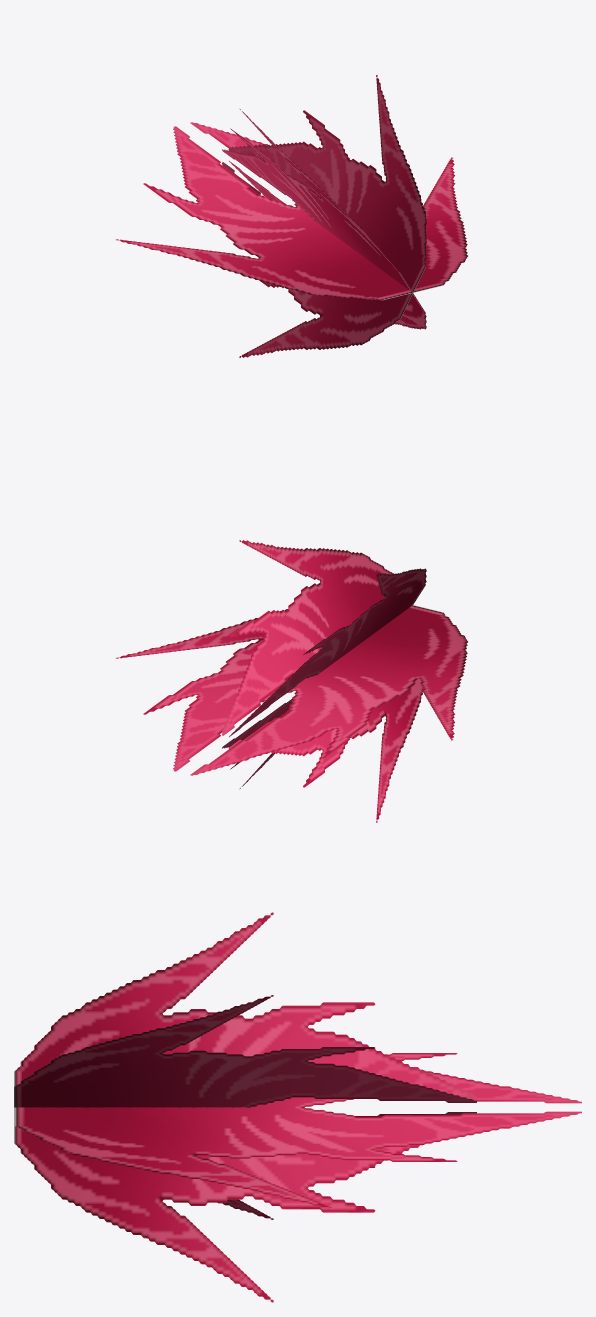
File: Anger_Tail_Mesh.fbx
3 views of the same model, one above another, from view 1: azimuth 30°, elevation 25°; view 2: azimuth 150°, elevation 25°; view 3: azimuth 270°, elevation 25° (orthographic). The views are drawn at different scales.
Visible parts, largest first — view 1: Anger_Tail; view 2: Anger_Tail; view 3: Anger_Tail.
Part boxes in pixels (bbox=[...]): Anger_Tail: bbox=[115, 75, 467, 357]; Anger_Tail: bbox=[115, 540, 467, 822]; Anger_Tail: bbox=[14, 912, 581, 1302].
Size of the model in its own units: 395 by 279 by 467.
1 material, 1 textured.
